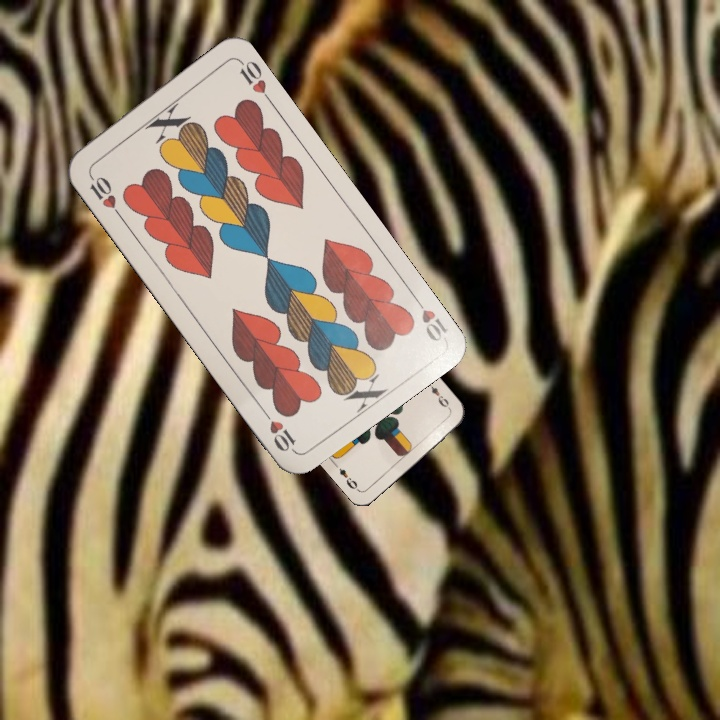E9: (424, 379, 454, 413)
H10: (408, 290, 450, 345), (84, 168, 124, 220)
